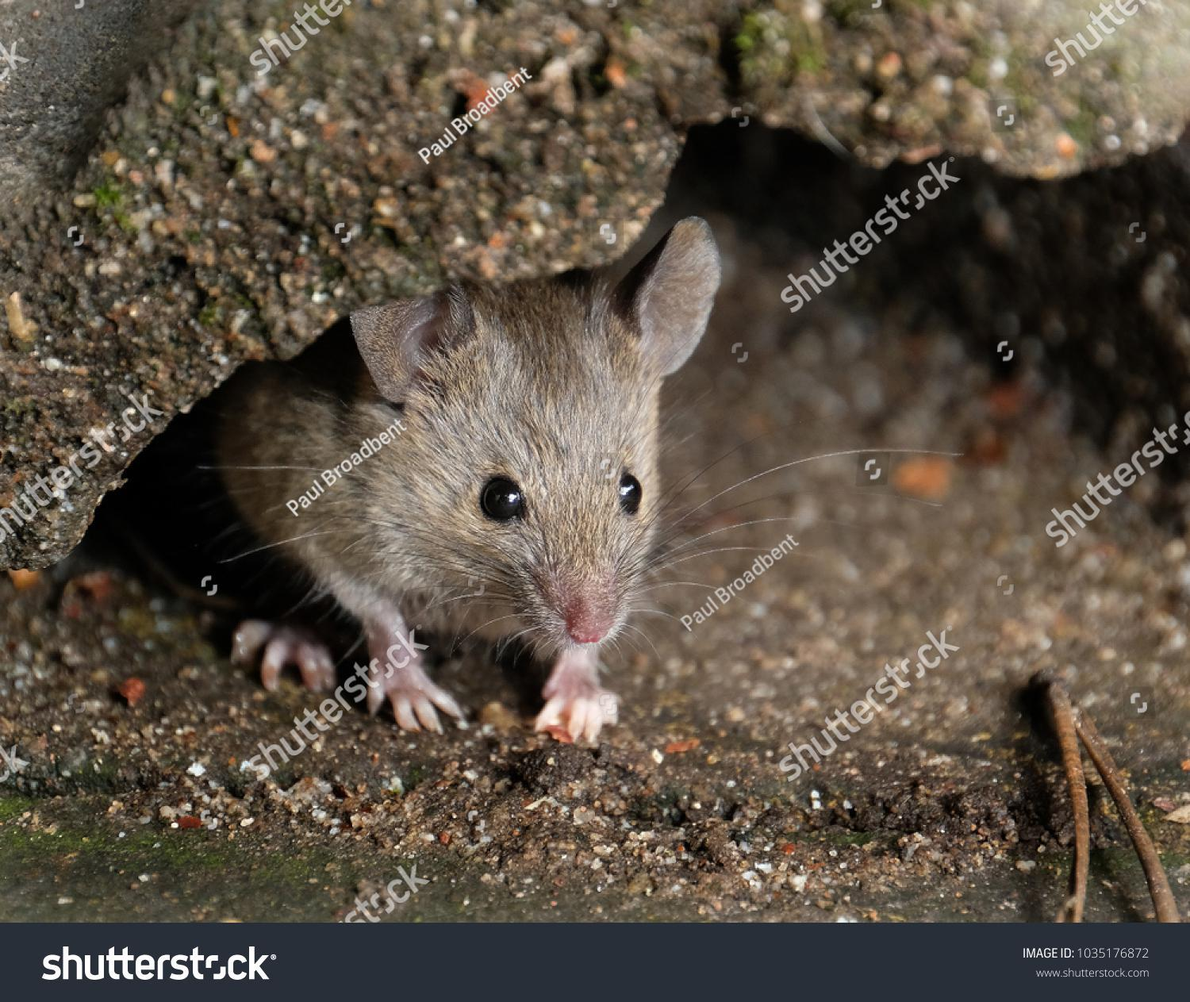rat: (224, 216, 721, 750)
